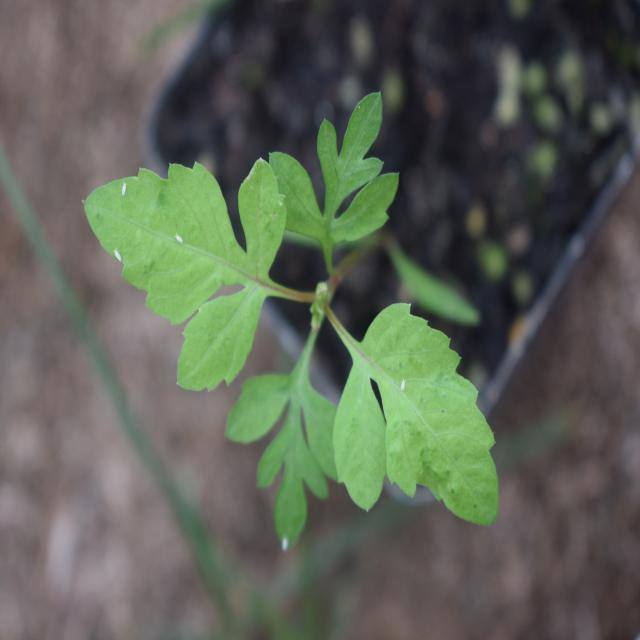Bidens pilosa: (68, 79, 501, 558)
